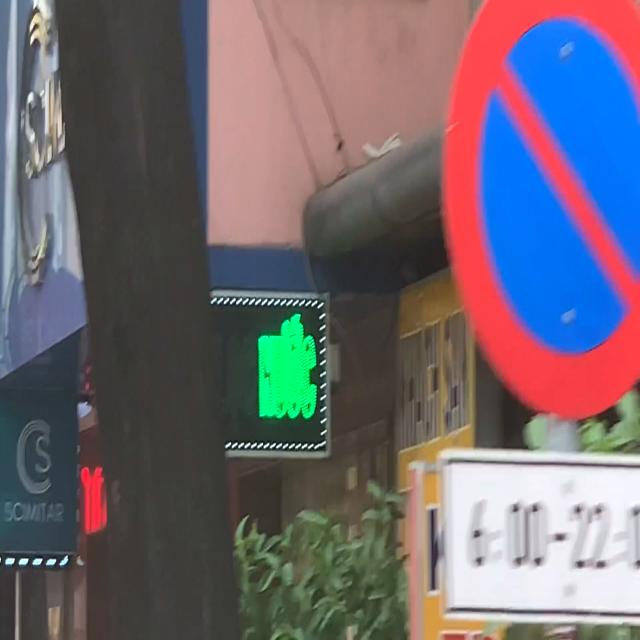P.131a: (441, 0, 640, 422)
